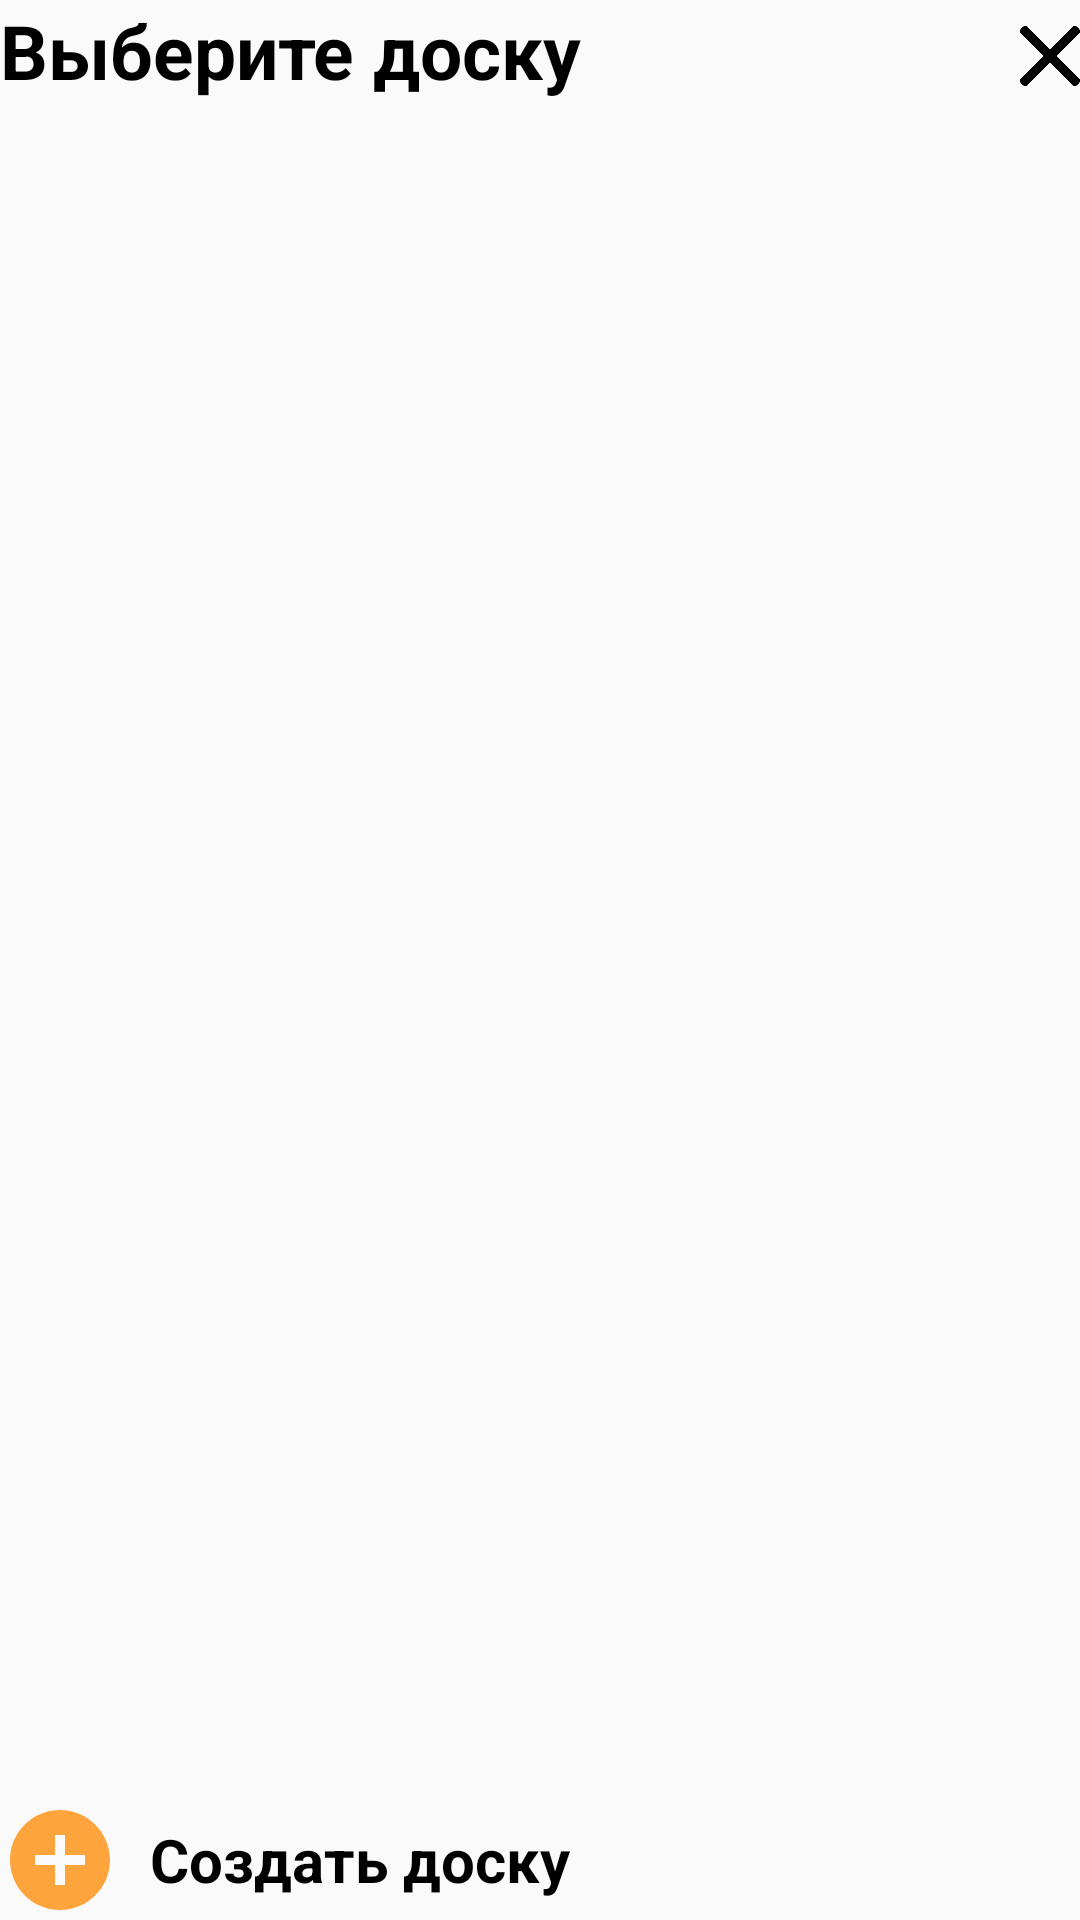

Locate icon controls on the screen. Image size 1080*1920, boxes as (x1,y1,x2,y2).
close: (1020,26,1080,86)
